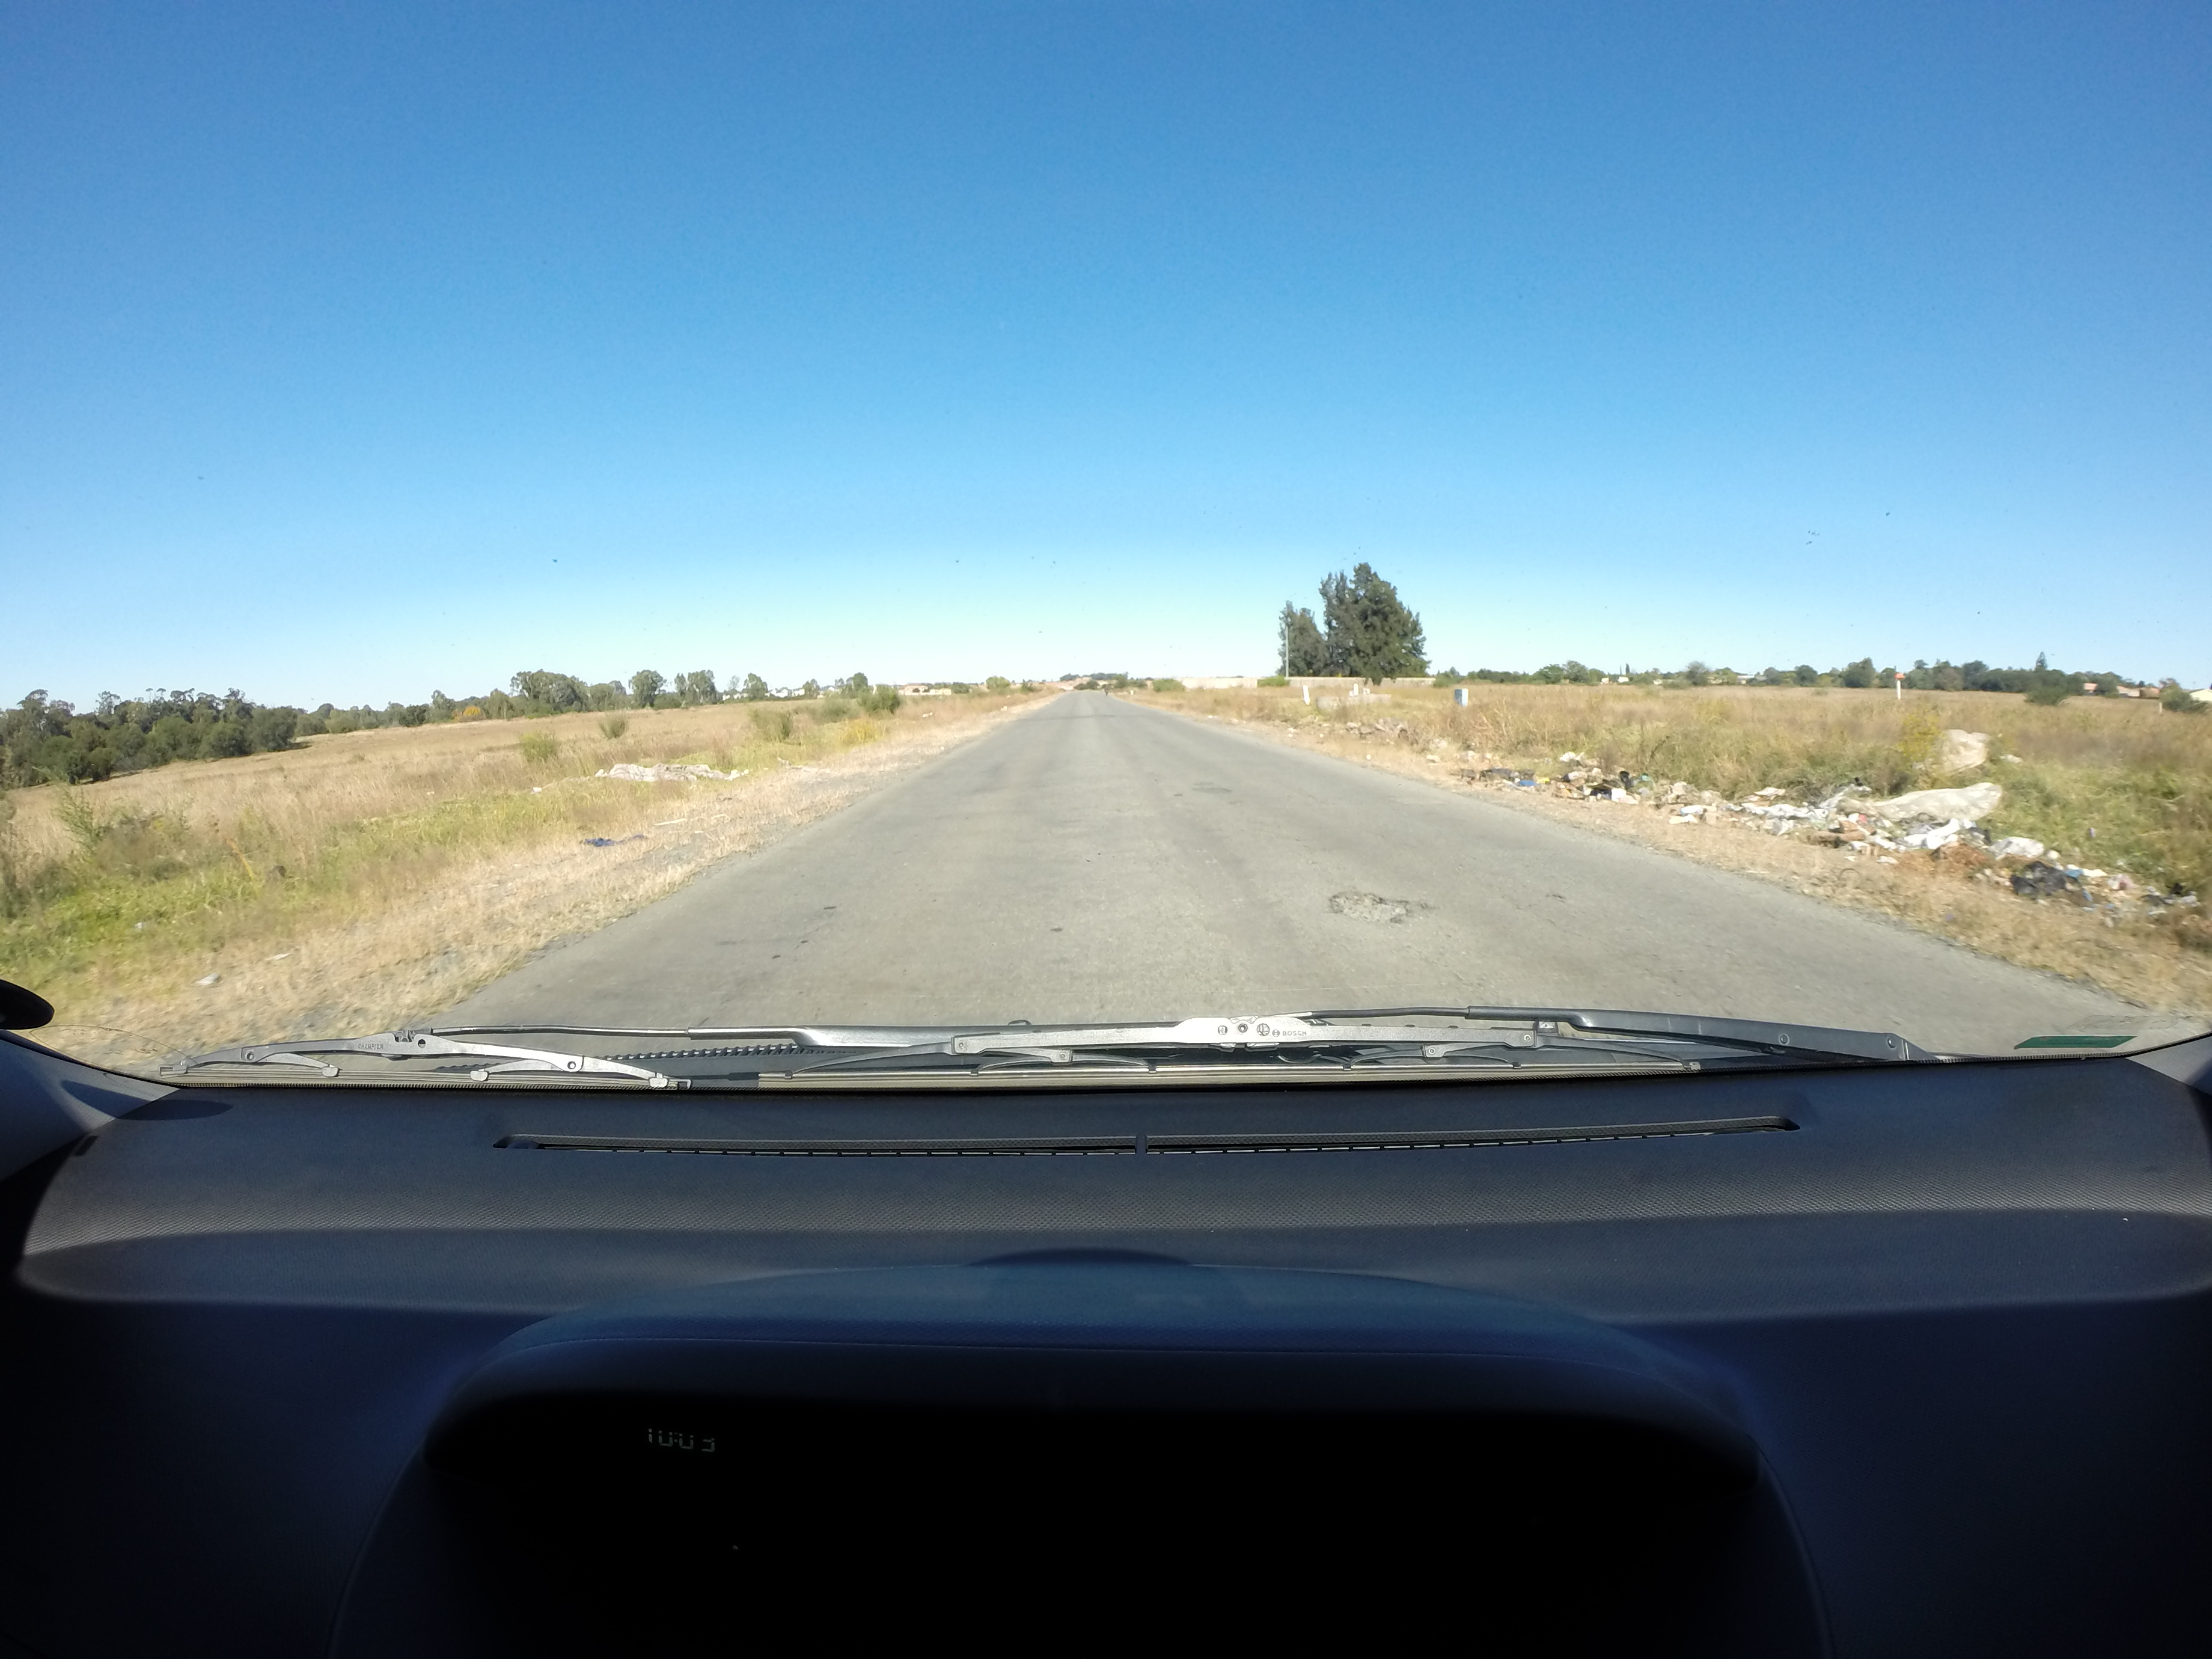pothole: (1310, 875, 1477, 974)
